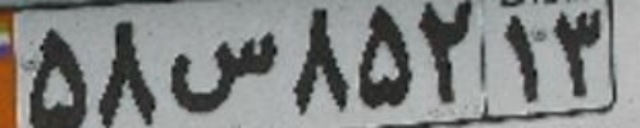1: (501, 14, 539, 103)
2: (415, 0, 468, 102)
3: (555, 7, 603, 97)
5: (27, 28, 85, 126), (357, 4, 411, 109)
8: (98, 20, 156, 125), (293, 7, 349, 114)
sin: (164, 30, 277, 114)
